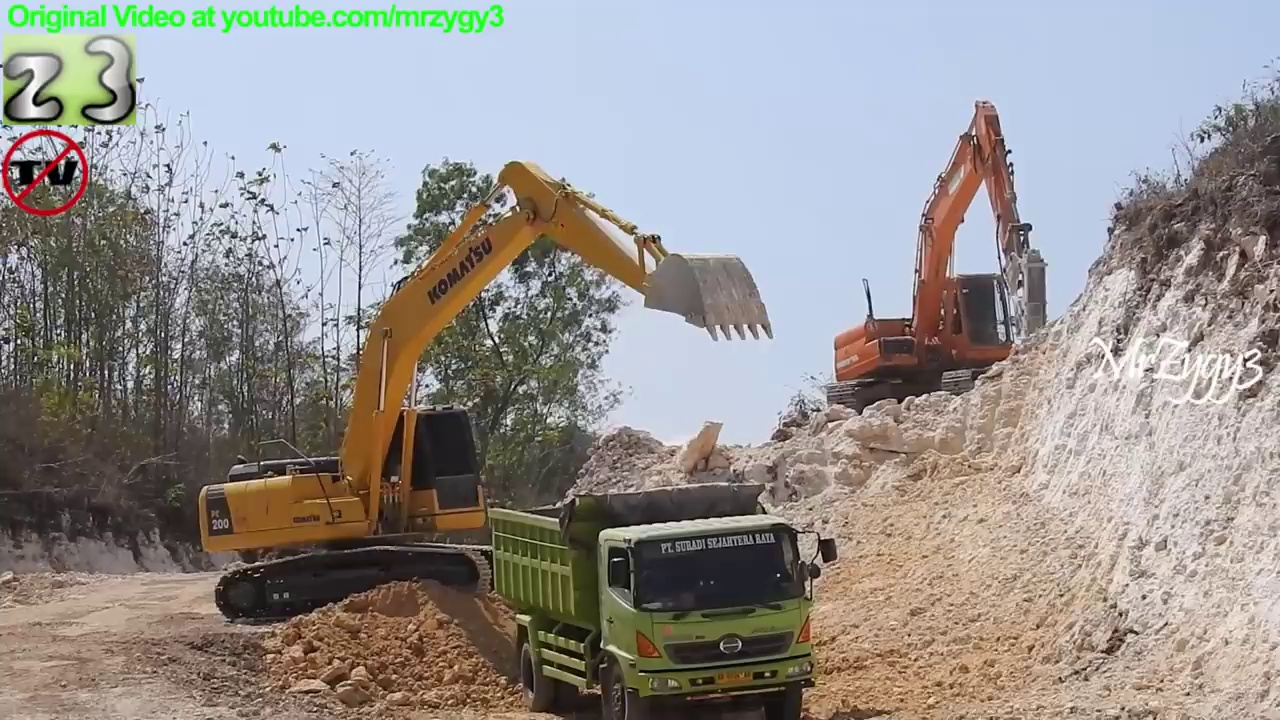excavator: (195, 158, 784, 634), (824, 95, 1055, 416)
truck: (488, 469, 838, 720)
